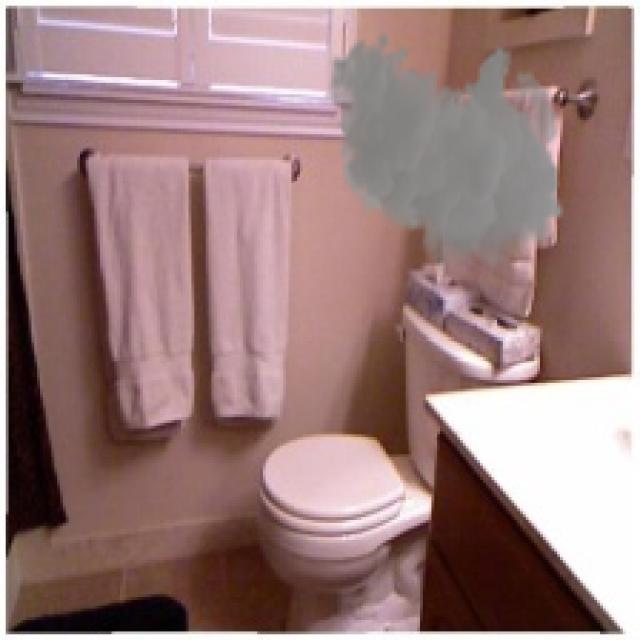smoke: (328, 31, 566, 280)
